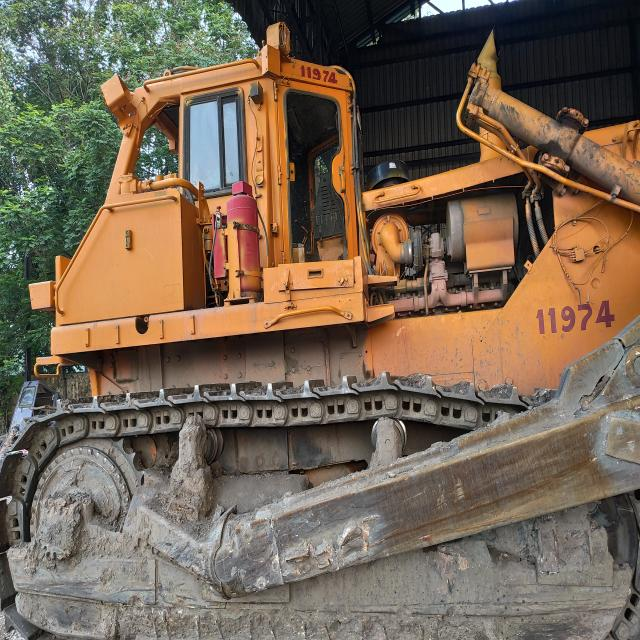buldozerpayloadergrader: (0, 23, 640, 638)
